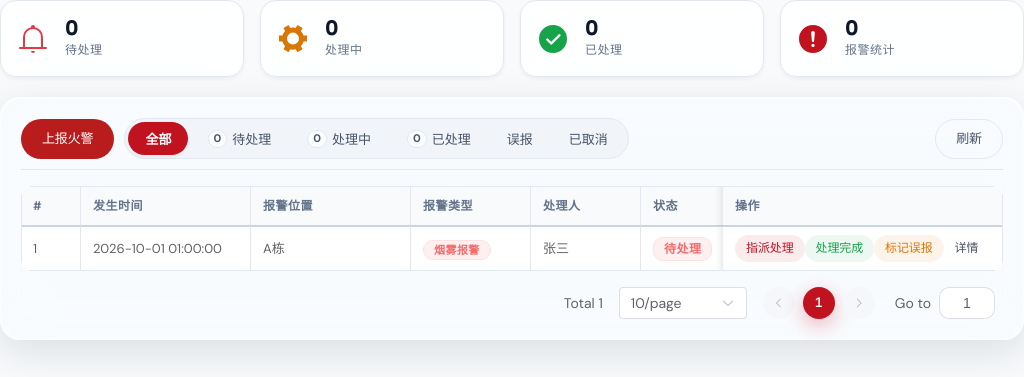
it: 确认框处理中「指派处理」按钮已禁用（真实浏览器语义下不会二次触发）
Click the button "指派处理": point(770, 249) [735,235,804,262]
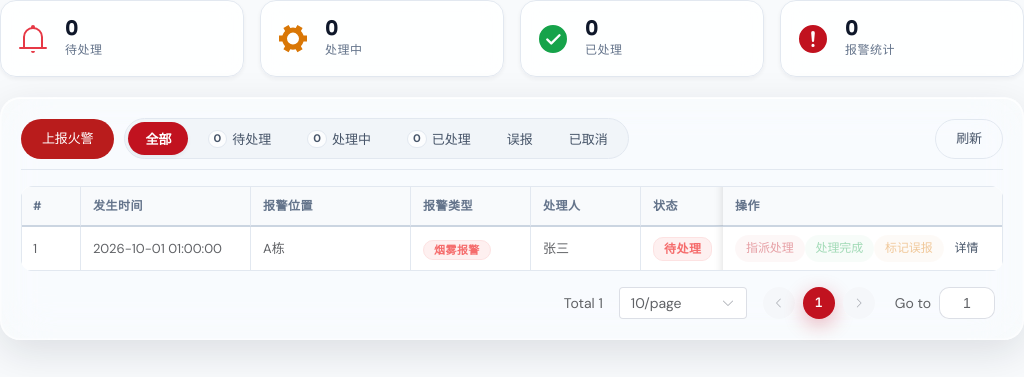
Check: the button "指派处理" is disabled, box [735,235,804,262]
